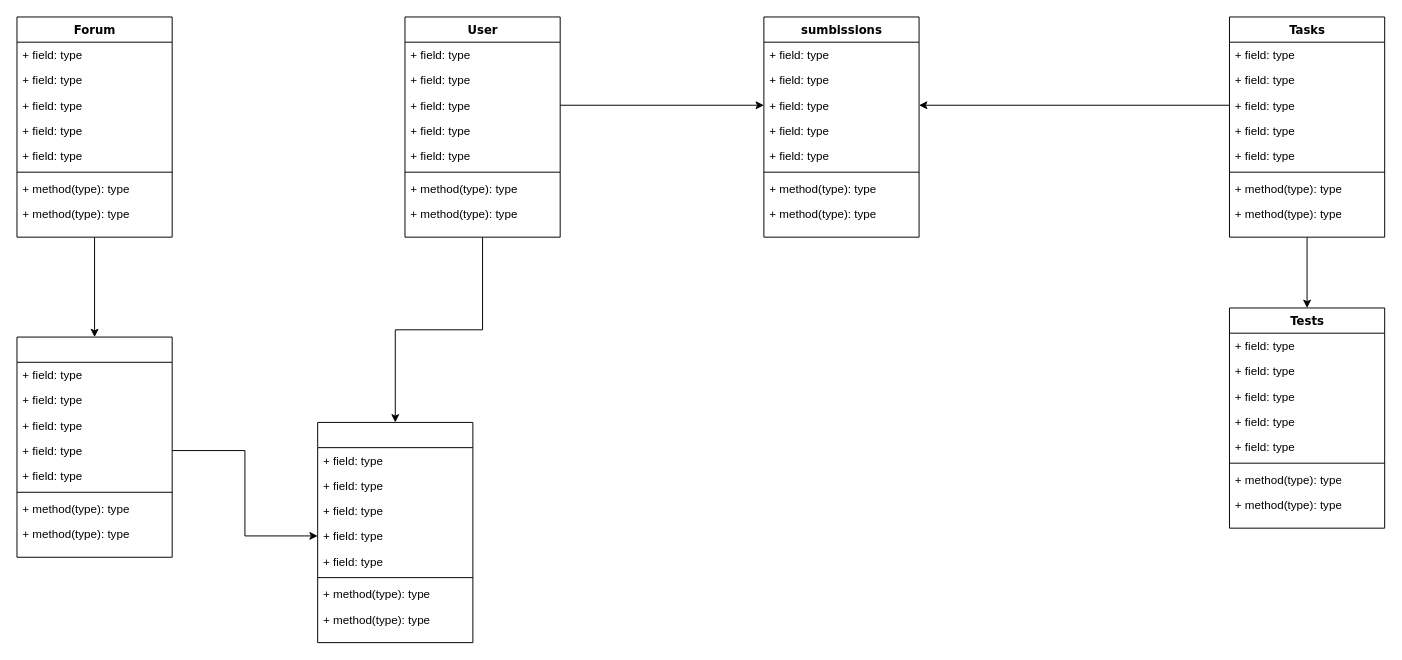
Some shapes in this 1402 by 660 pixel diagram are drawn without their labels. Here are the shapes that lost their labels. From the top down, the box of each, then its label:
(16, 336, 172, 557): conversation
(317, 421, 473, 643): comments (possibly)
